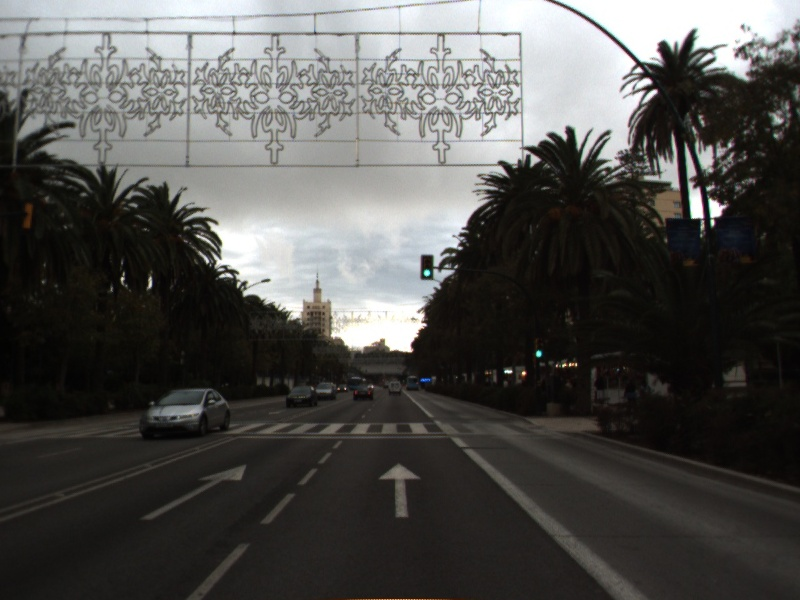STRAIGHT: (137, 463, 248, 522), (377, 461, 422, 519)
